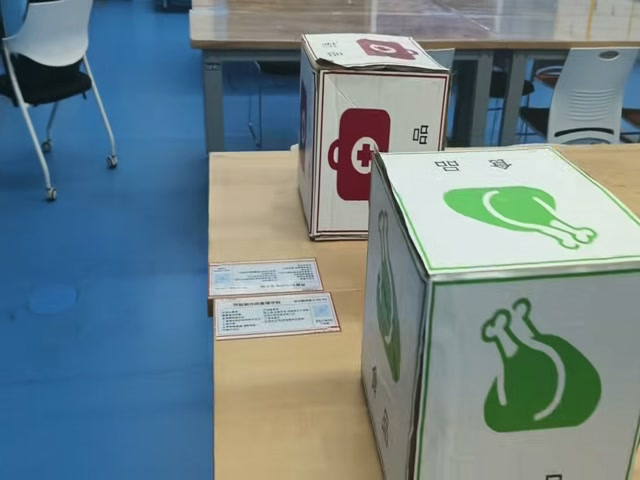Cube_food: (367, 146, 634, 286)
Cube_medicine: (298, 34, 448, 77)
